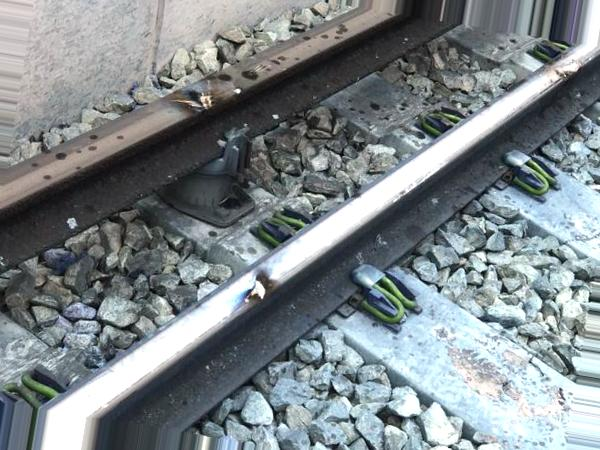tracks_fault: (233, 273, 297, 331), (538, 50, 591, 118)
